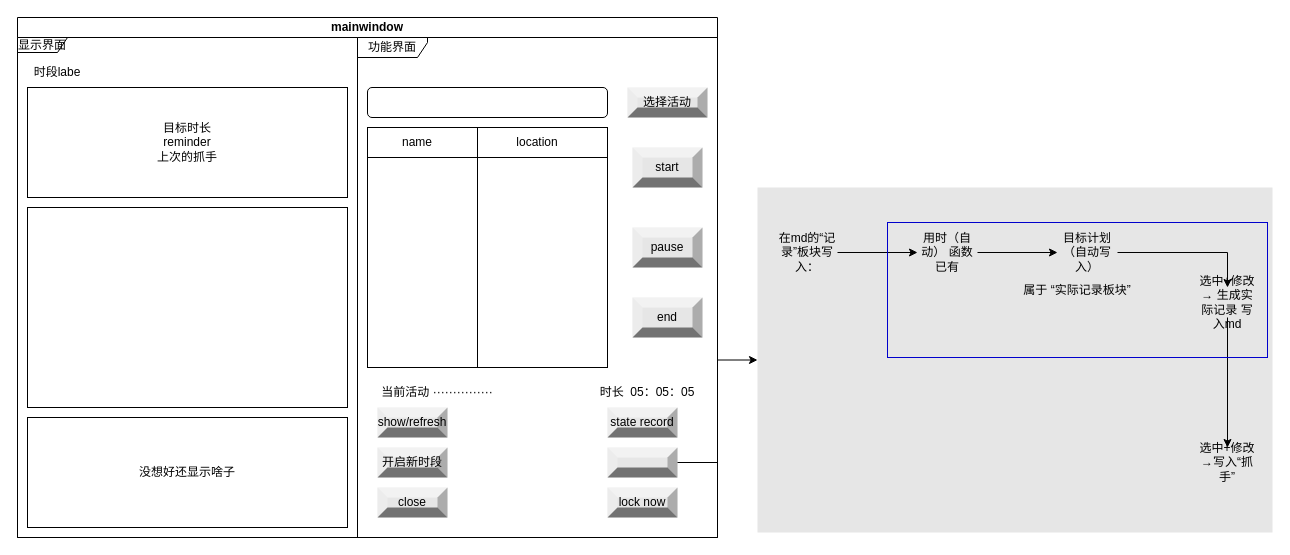
Some shapes in this 1290 by 555 pixel diagram are drawn without their labels. The shapes that lost their labels are listed below. From the top down, each one's centre as x and y in pixels, then its label:
At point 487,102: "搜索框".
At point 187,307: "show plan 对应时段的ob中的内容".
At point 642,462: "结束时段".
